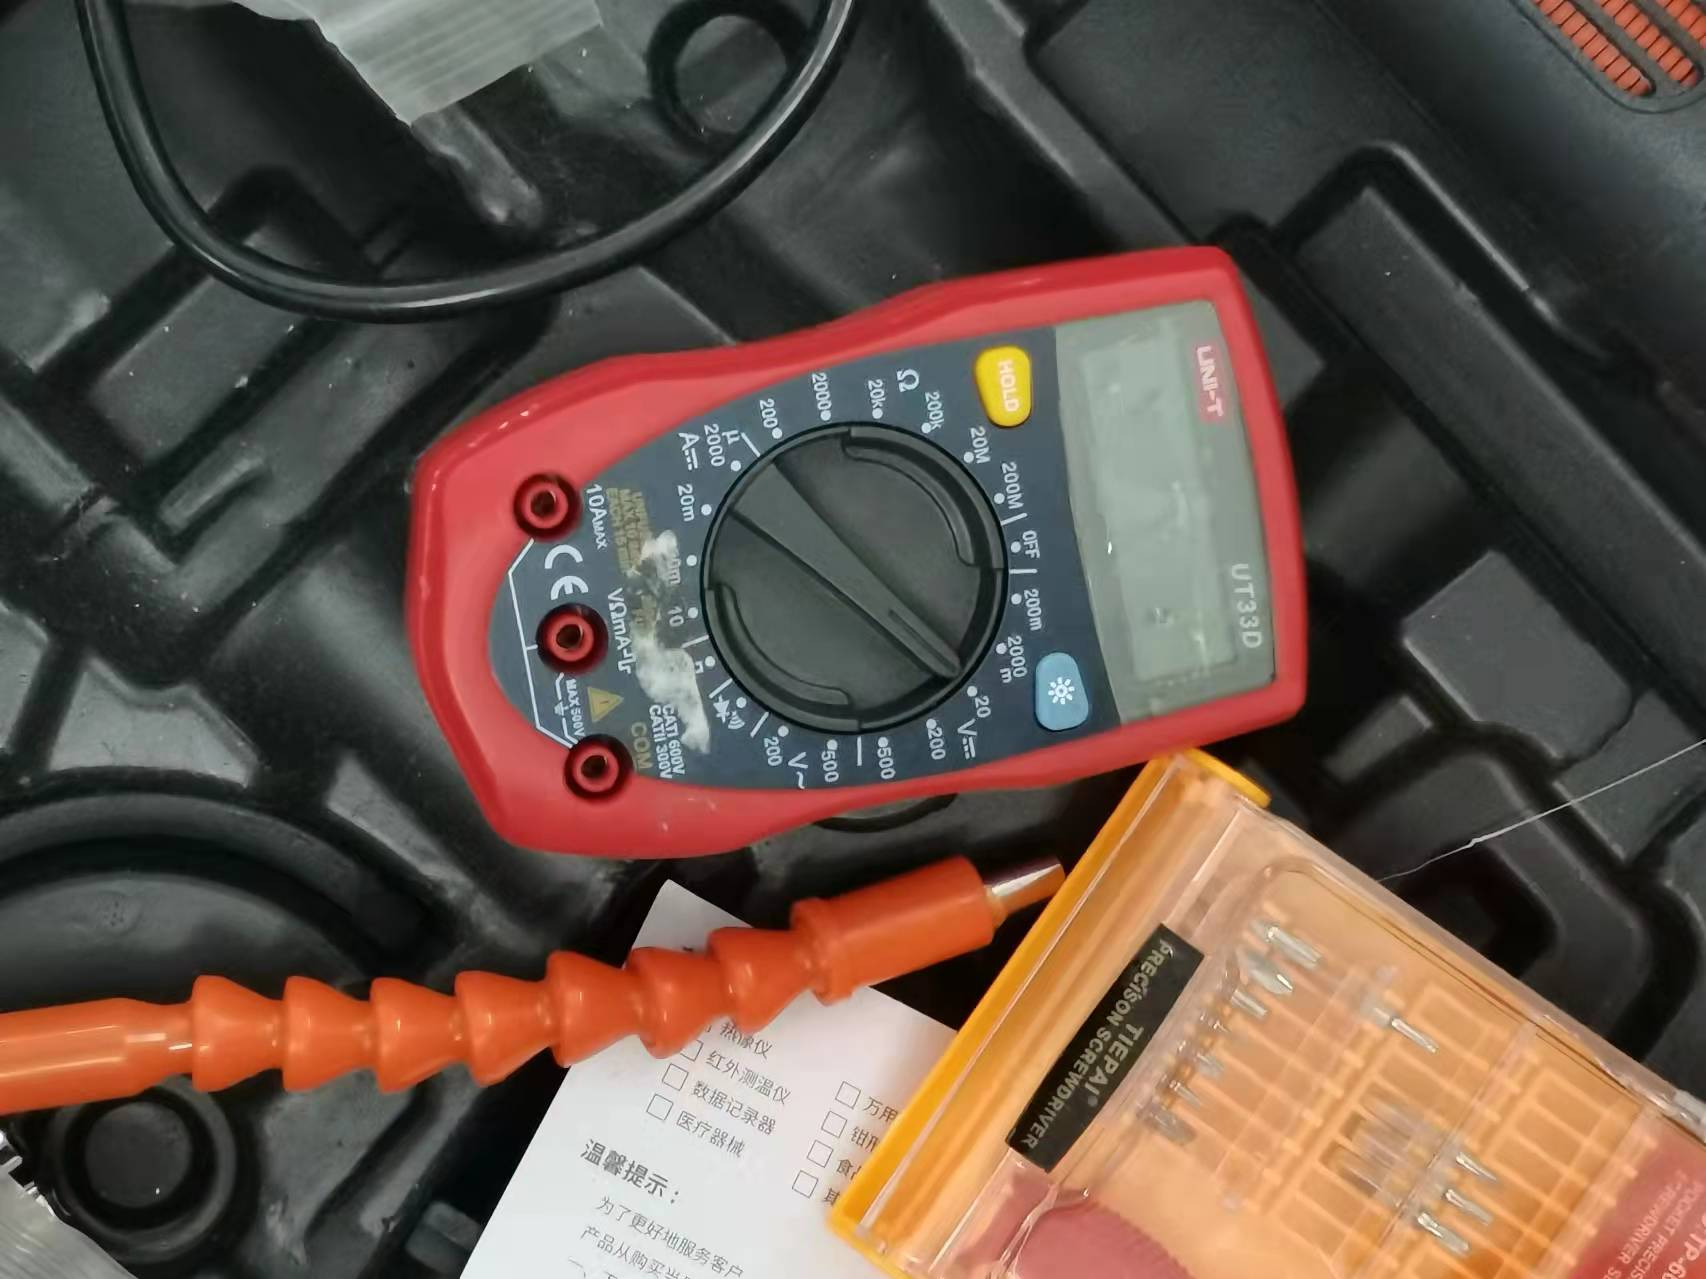Multimeter: (406, 240, 1308, 863)
